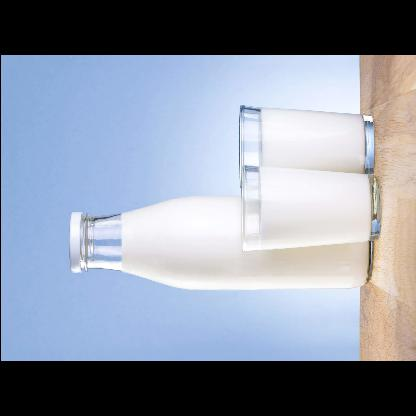milk: (119, 196, 371, 292), (256, 169, 374, 252), (258, 107, 368, 178)
